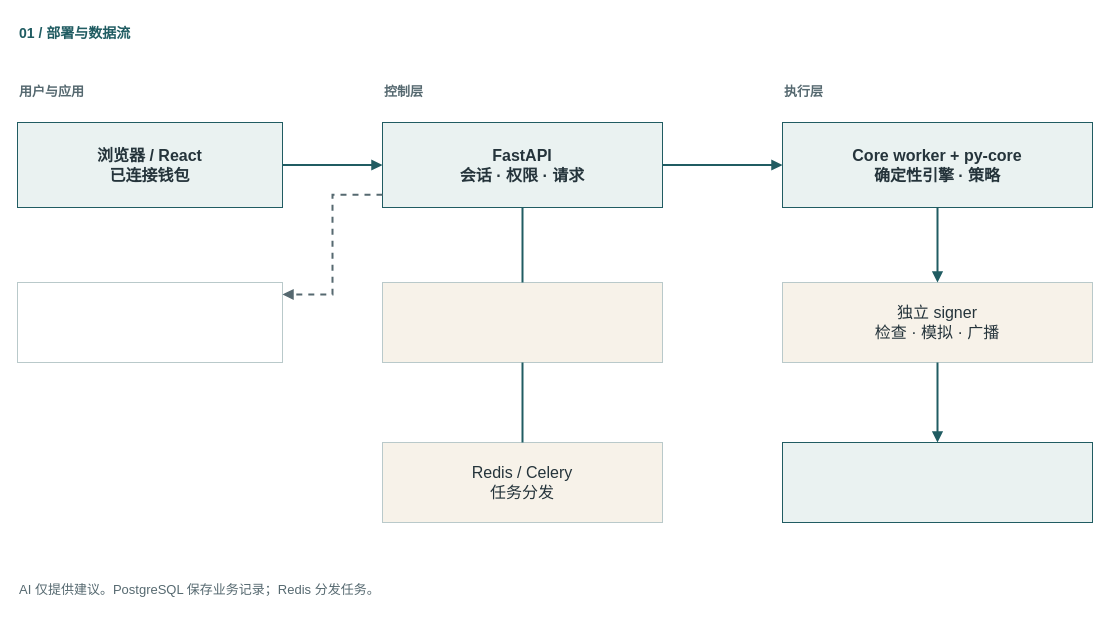
Some shapes in this 1110 by 628 pixel diagram are drawn without their labels. The shapes that lost their labels are listed below. From the top down, each one's centre as x and y in pixels, then its label:
At (149,322): "AI worker 只读工具 · 建议".
At (522,322): "PostgreSQL 状态 · 计划 · outbox · 审计".
At (937,482): "TreasuryPilotModule + Safe Aave / EAS 集成".
